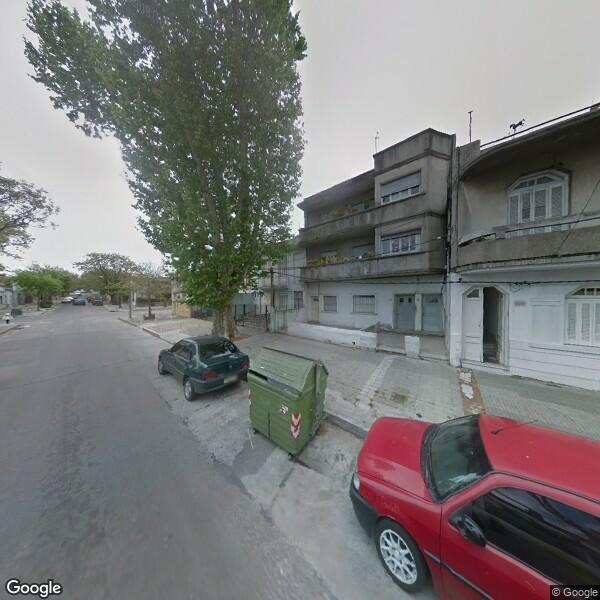Trash: (252, 346, 332, 462)
